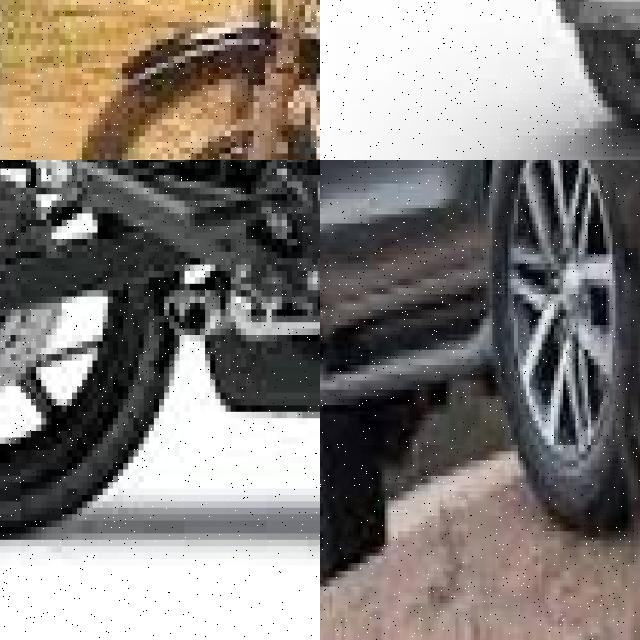bike: (0, 160, 320, 540), (70, 0, 320, 160)
car: (320, 160, 640, 614), (504, 0, 640, 142)
